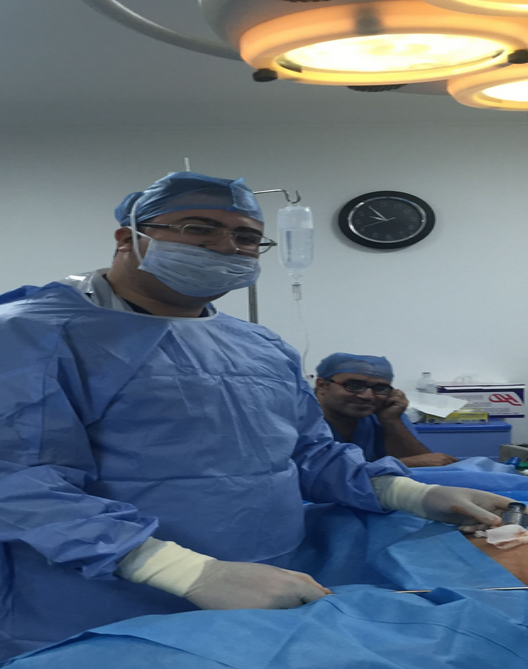mask_weared_incorrect: (113, 176, 286, 302)
